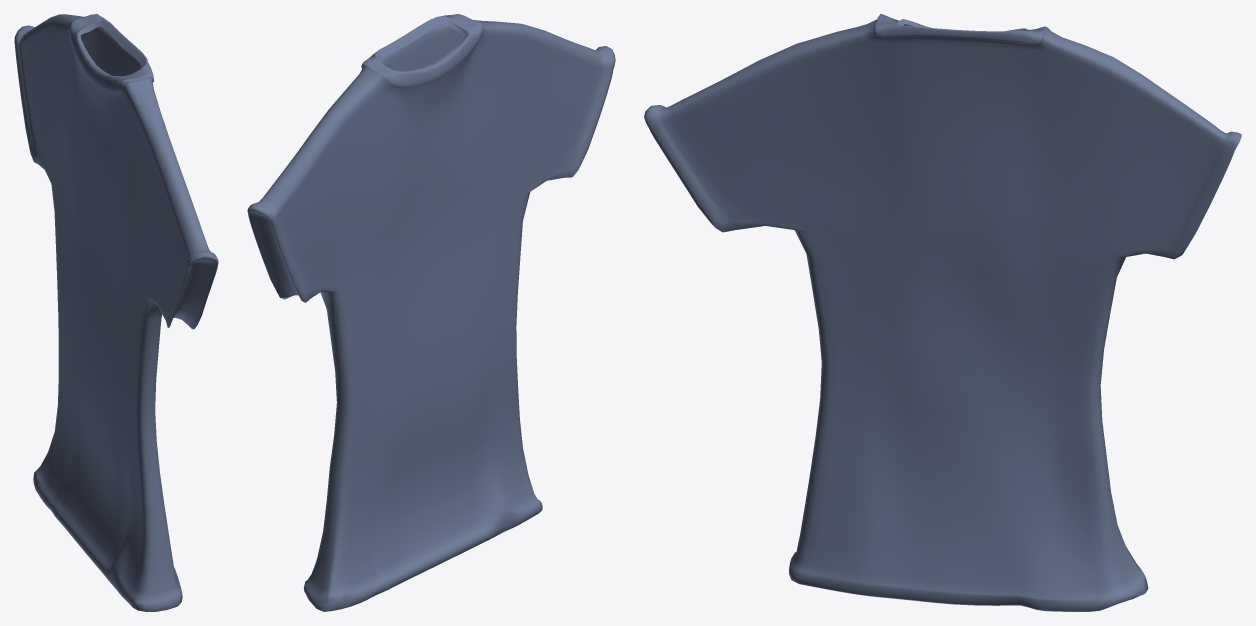
The model's file is 3DGAME_Blue_Shirt.fbx.
3 views of the same model, side by side, from view 1: azimuth 30°, elevation 25°; view 2: azimuth 150°, elevation 25°; view 3: azimuth 270°, elevation 25° (orthographic). The views are drawn at different scales.
Parts seen in each view (by area): view 1: pCube1; view 2: pCube1; view 3: pCube1.
Boxes of the visible parts, bbox=[...] form: pCube1: bbox=[14, 14, 218, 611]; pCube1: bbox=[247, 14, 615, 611]; pCube1: bbox=[644, 14, 1241, 611].
Bounding box in the file's own units: 0.1964 × 0.9058 × 0.8662.
